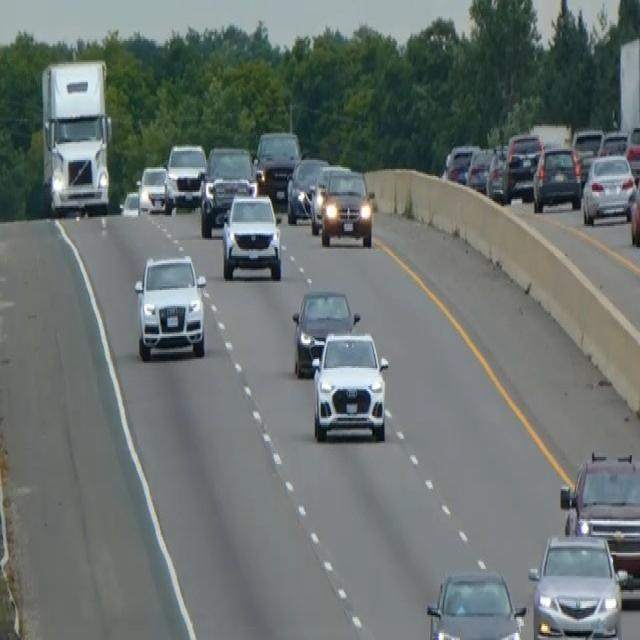car: (559, 448, 639, 587), (528, 530, 623, 638), (311, 329, 389, 443), (133, 251, 207, 361), (424, 567, 528, 638), (291, 286, 359, 377), (220, 190, 282, 281), (199, 144, 257, 236), (320, 165, 374, 247), (581, 151, 635, 226), (532, 142, 582, 214), (285, 155, 328, 224), (164, 140, 207, 208), (309, 162, 350, 231), (503, 130, 543, 199), (136, 162, 169, 213), (444, 141, 479, 183), (485, 144, 509, 203), (465, 146, 493, 192), (571, 125, 604, 158), (597, 128, 628, 156), (625, 123, 639, 181), (629, 171, 639, 247)
jeep: (253, 128, 301, 201)
lorry: (39, 57, 113, 217)
